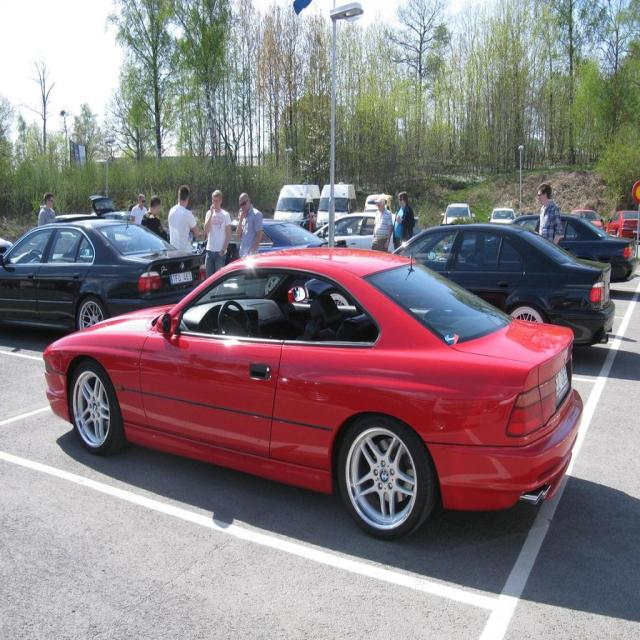car: (44, 243, 595, 540), (440, 198, 474, 230), (490, 204, 519, 225)
